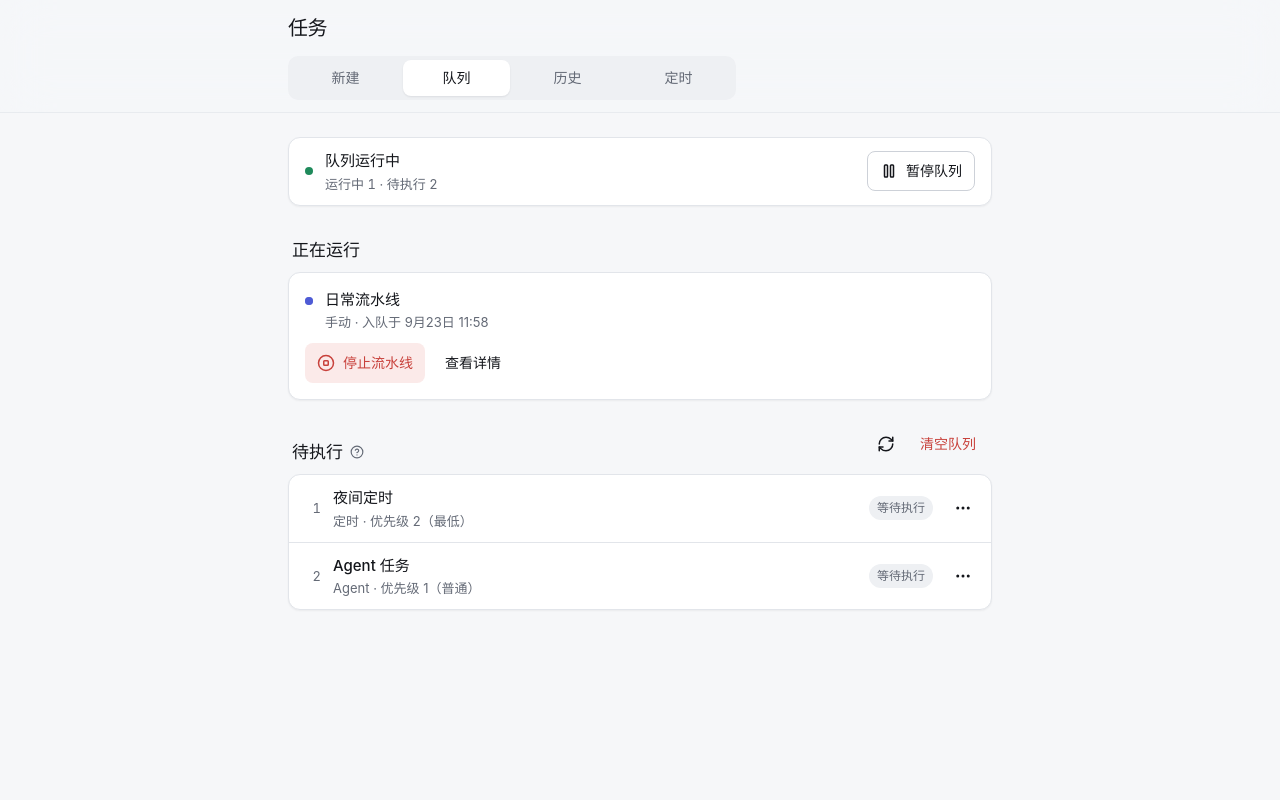
Test: task queue › raises the target before stopping the current pipeline and explains the result in place (T8)
Click the button named "「夜间定时」的更多操作" at [963, 508], box [941,486,985,530]
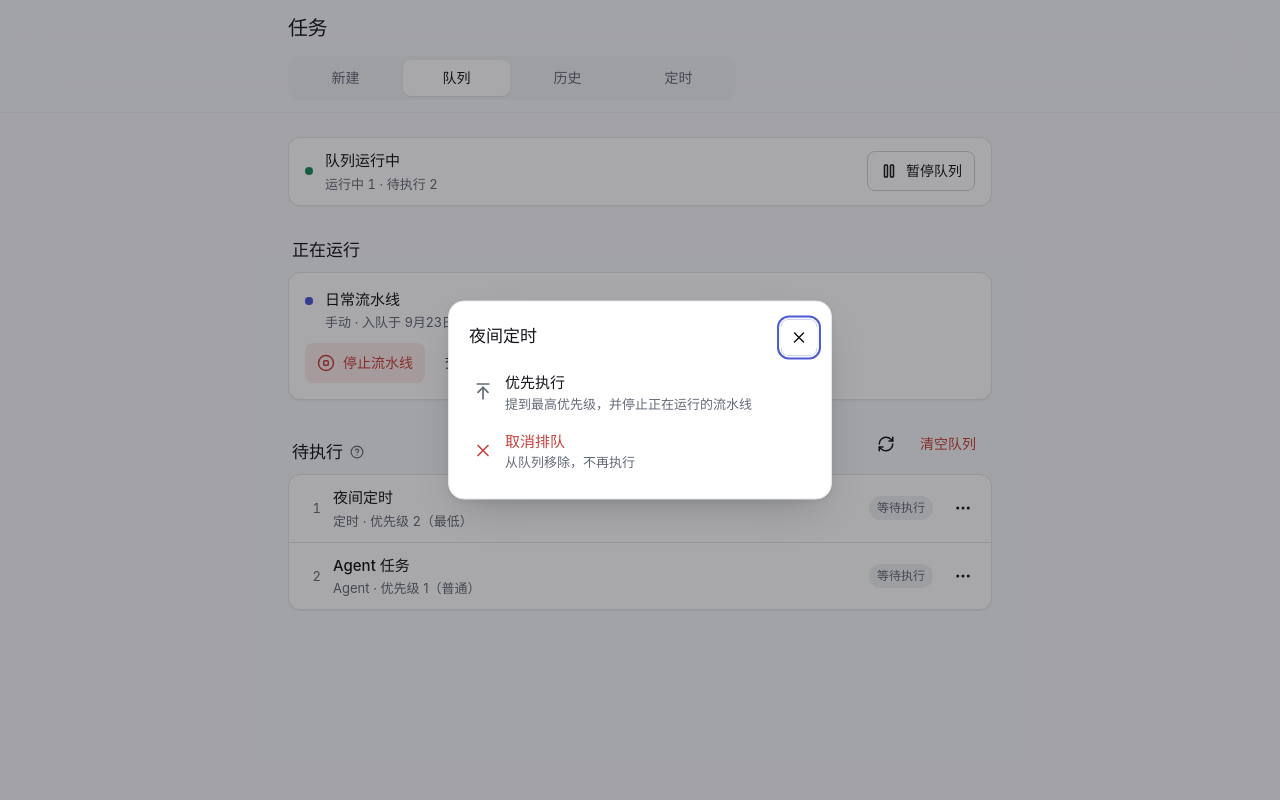
Click the button "优先执行 提到最高优先级，并停止正在运行的流水线" at [535, 382], box [461,364,819,420]
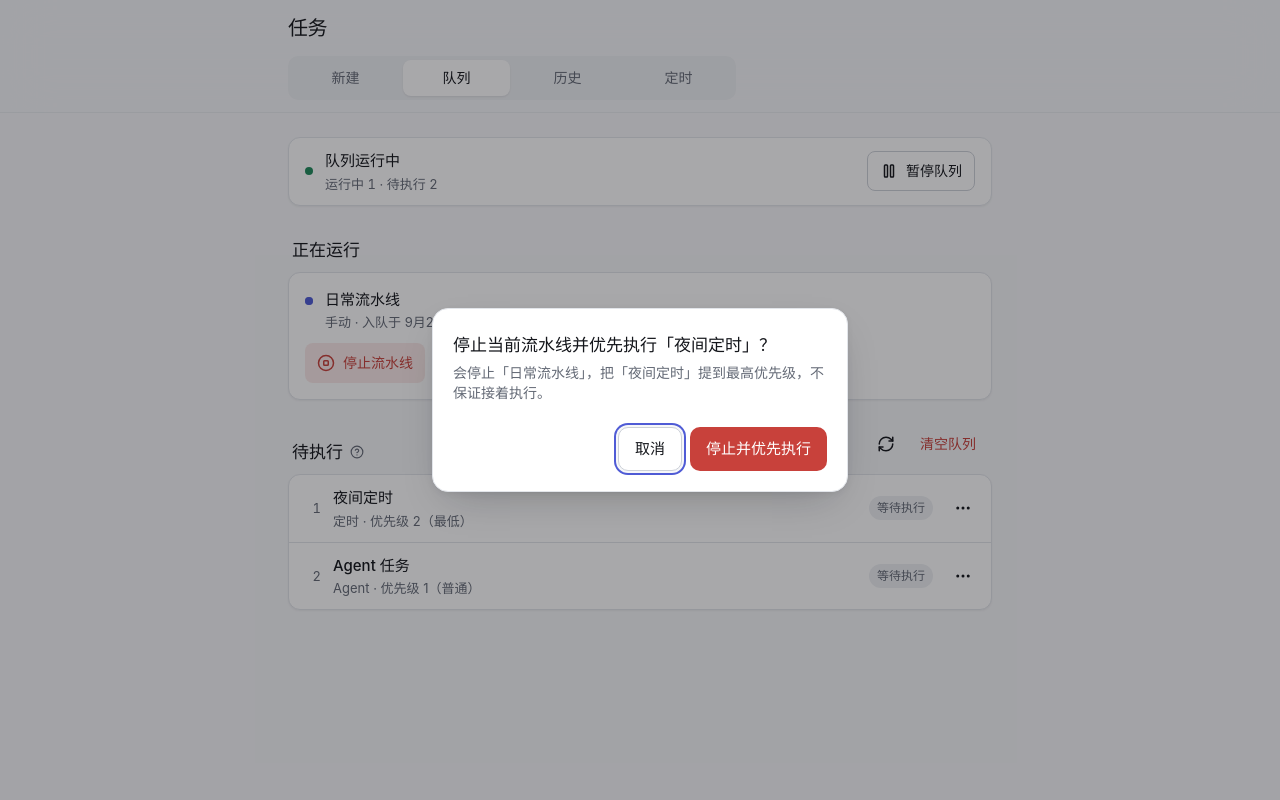
Check: the dialog "停止当前流水线并优先执行「夜间定时」？" shows "不保证接着执行", box [453,364,824,401]
Click the button "停止并优先执行" at [758, 449], box [690,427,827,471]
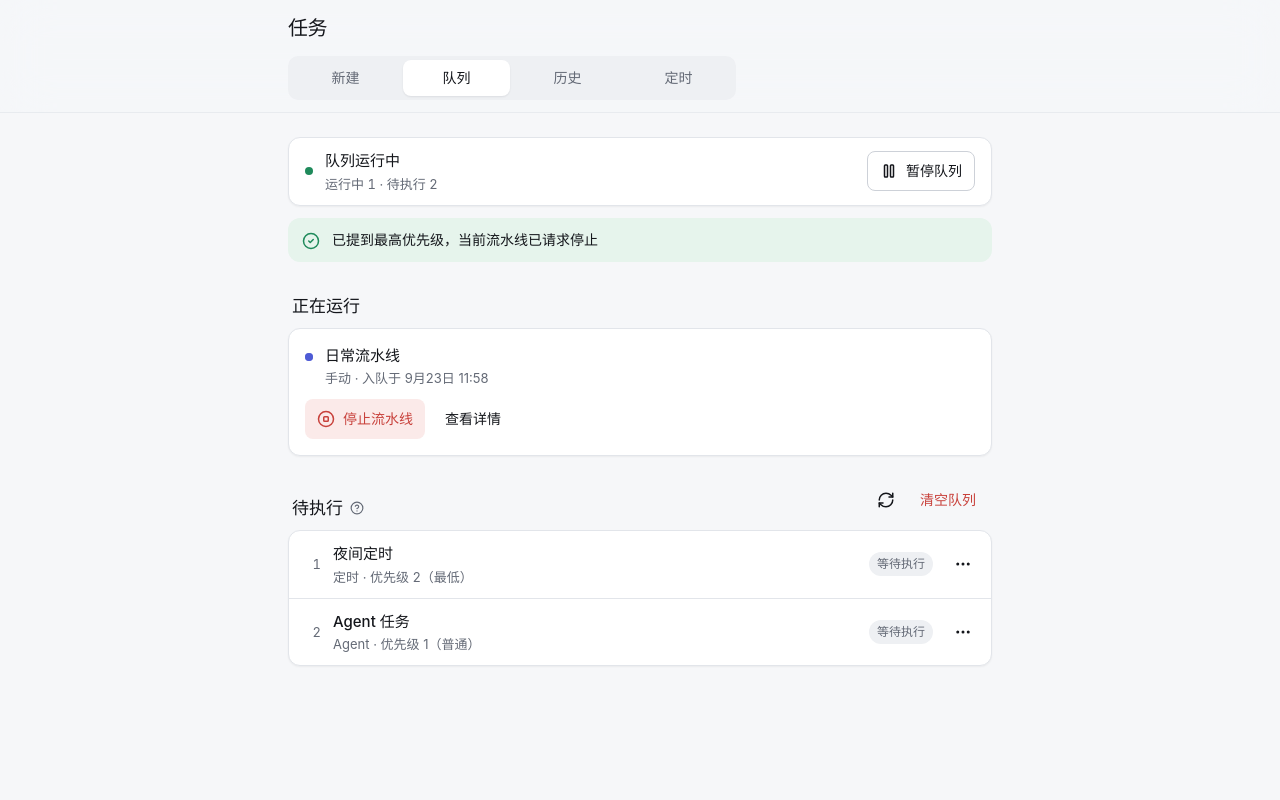
Check: the text "已提到最高优先级，当前流水线已请求停止" is shown, box [332,230,598,248]
